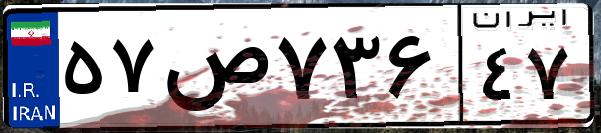3: (330, 28, 385, 110)
4: (475, 38, 525, 113)
5: (57, 26, 110, 100)
6: (385, 28, 445, 110)
7: (270, 28, 330, 110), (525, 38, 570, 115), (110, 28, 158, 98)
ص: (158, 20, 270, 120)
